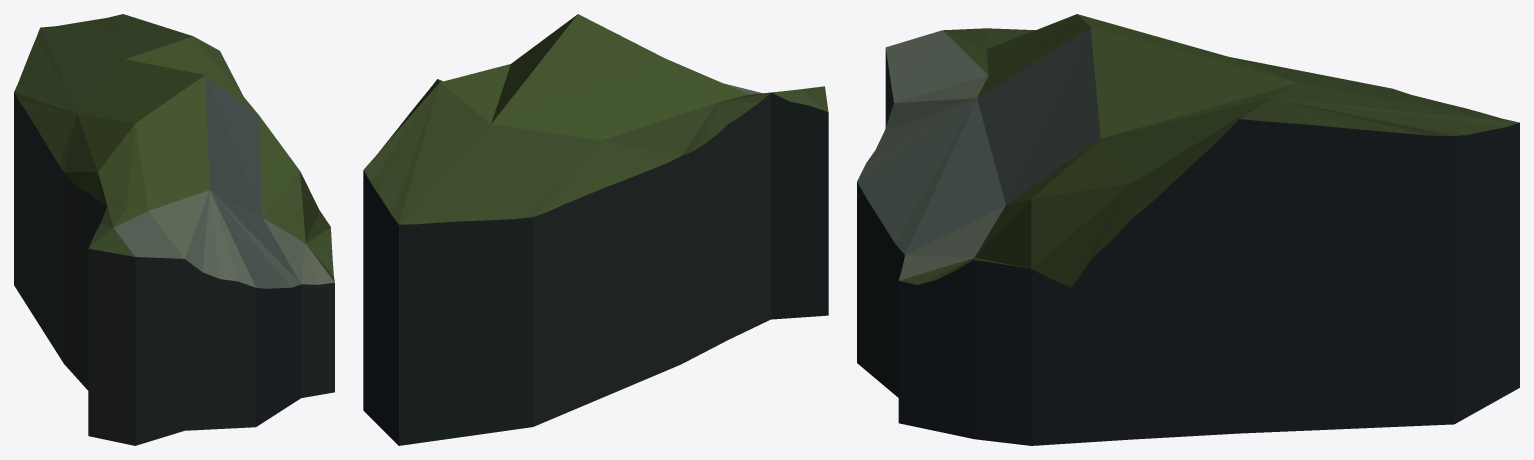
The model's file is cliff_sections_10c_shadow_buttress.glb.
3 views of the same model, side by side, from view 1: azimuth 30°, elevation 25°; view 2: azimuth 150°, elevation 25°; view 3: azimuth 270°, elevation 25° (orthographic). The views are drawn at different scales.
Parts seen in each view (by area): view 1: Front columns study; view 2: Front columns study; view 3: Front columns study.
Boxes of the visible parts, x1,y1,x2,y2 form: Front columns study: (14, 14, 334, 445); Front columns study: (363, 14, 828, 445); Front columns study: (857, 14, 1519, 445).
Bounding box in the file's own units: 63.16 × 63 × 105.
